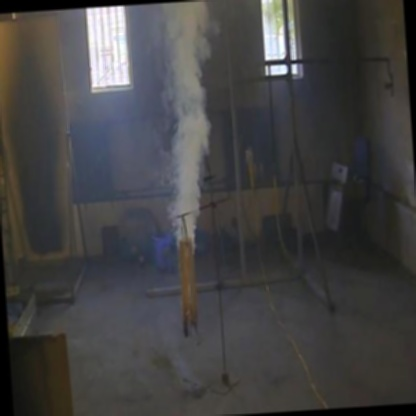smoke: (146, 4, 232, 316)
